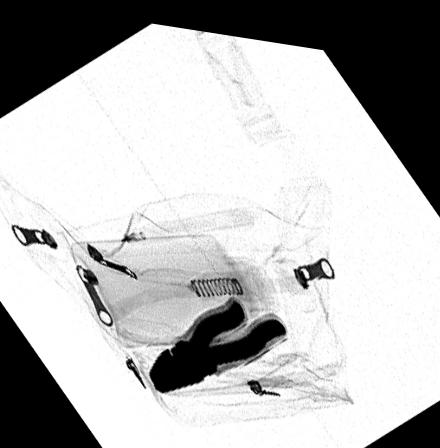Pliers: (146, 282, 287, 389)
